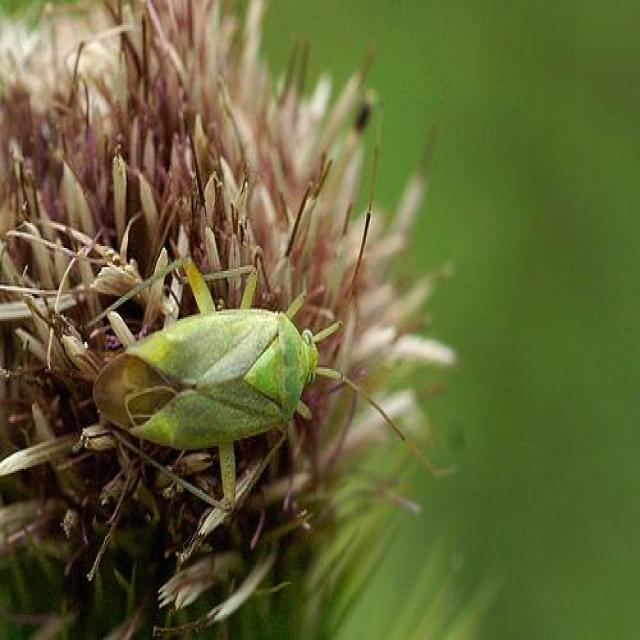Miridae-Adult-: (83, 222, 405, 513)
